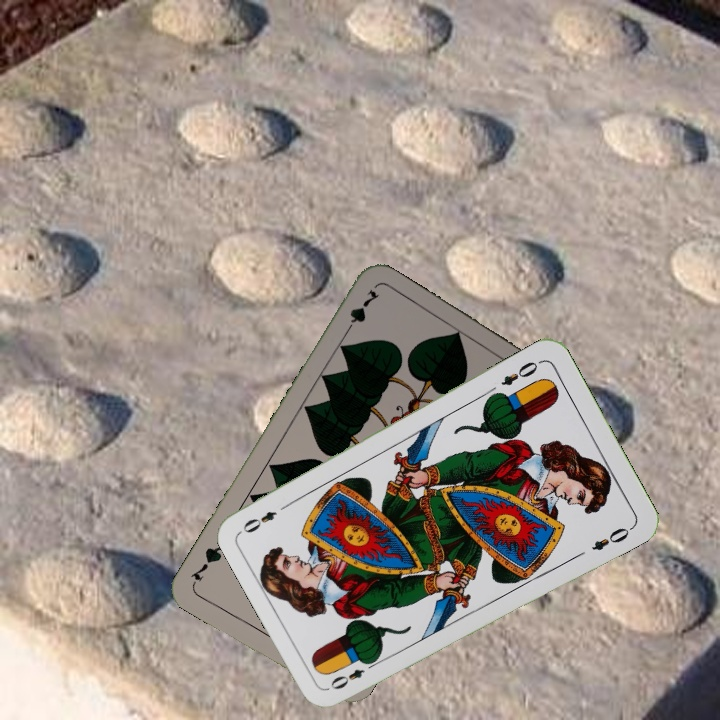EO: (326, 656, 380, 693), (497, 356, 544, 388)
G7: (340, 285, 382, 338)
